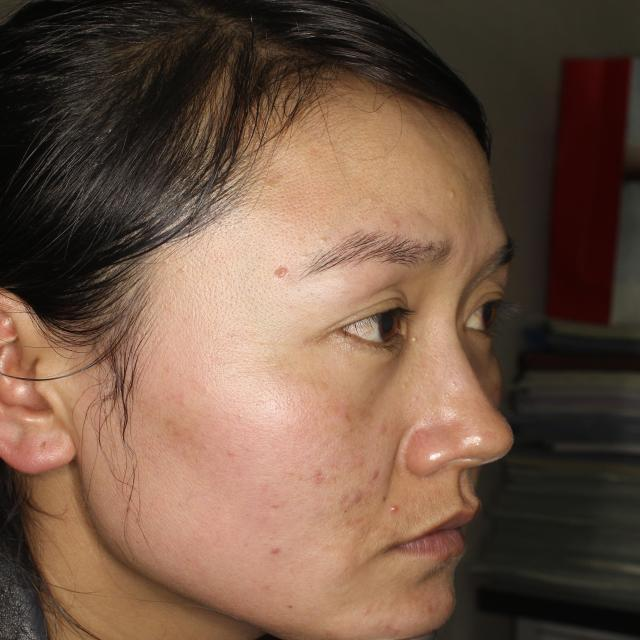acne: (374, 498, 404, 523), (357, 467, 388, 484), (313, 463, 332, 487), (345, 487, 355, 504)
